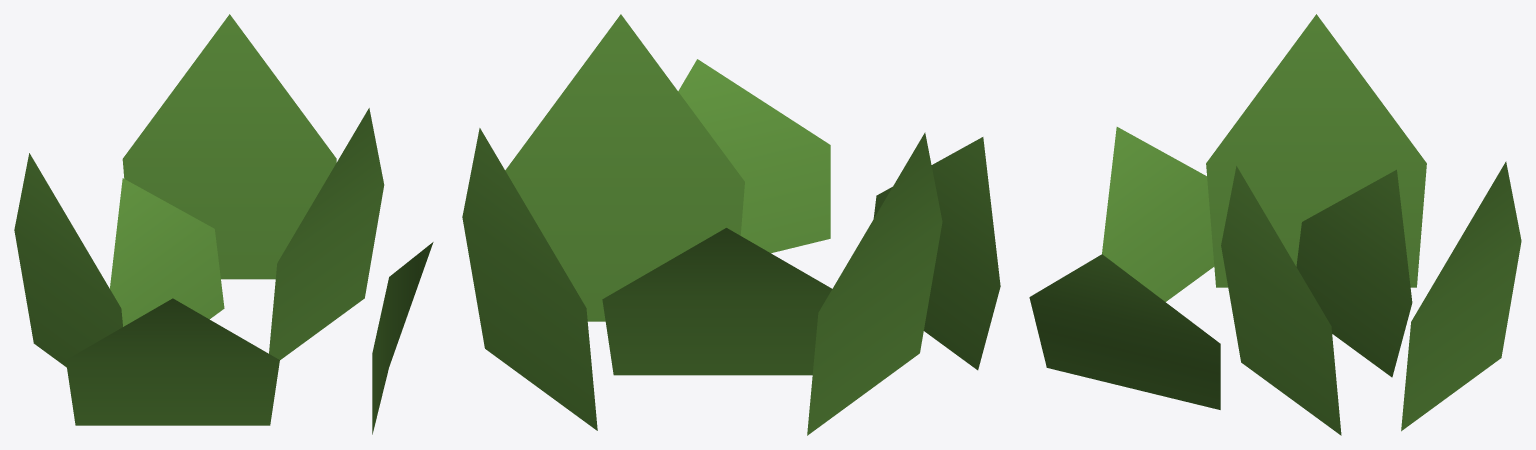
File: grass_leafs.glb
The picture shows the model from 3 angles, left to right: view 1: azimuth 30°, elevation 25°; view 2: azimuth 150°, elevation 25°; view 3: azimuth 270°, elevation 25°; orthographic projection. The views are drawn at different scales.
Visible parts, largest first — view 1: grass_leafs; view 2: grass_leafs; view 3: grass_leafs.
Boxes of the visible parts, box(x1,y1,x2,y2) form: grass_leafs: box(14, 14, 433, 434); grass_leafs: box(462, 14, 1000, 435); grass_leafs: box(1029, 14, 1521, 435).
Bounding box in the file's own units: 0.2345 × 0.1425 × 0.2573.
